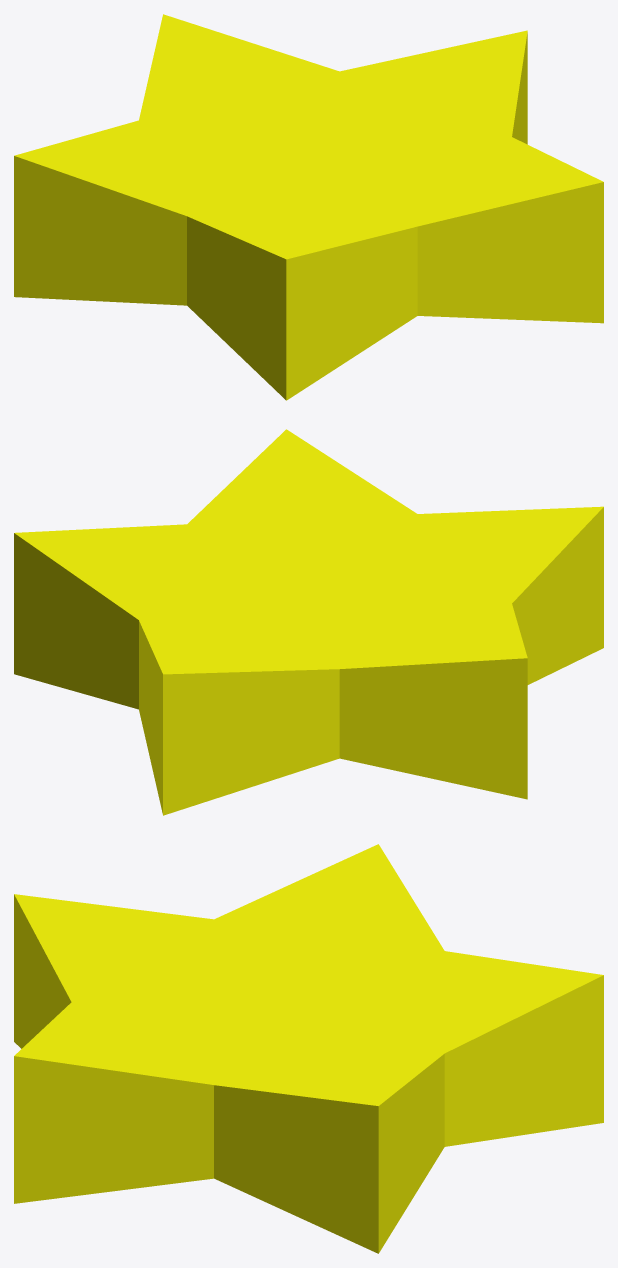
File: yellow_star.gltf
The picture shows the model from 3 angles, top to bottom: view 1: azimuth 30°, elevation 25°; view 2: azimuth 150°, elevation 25°; view 3: azimuth 270°, elevation 25°; orthographic projection. The views are drawn at different scales.
Visible parts, largest first — view 1: Star; view 2: Star; view 3: Star.
Boxes of the visible parts, bbox=[...] form: Star: bbox=[14, 14, 603, 400]; Star: bbox=[14, 429, 603, 815]; Star: bbox=[14, 844, 603, 1253].
Size of the model in its own units: 0.1902 by 0.05 by 0.1809.
